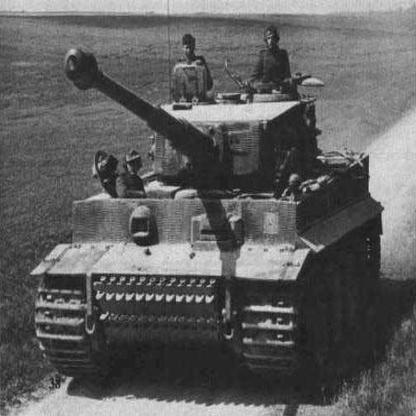Tank: (22, 26, 391, 390)
